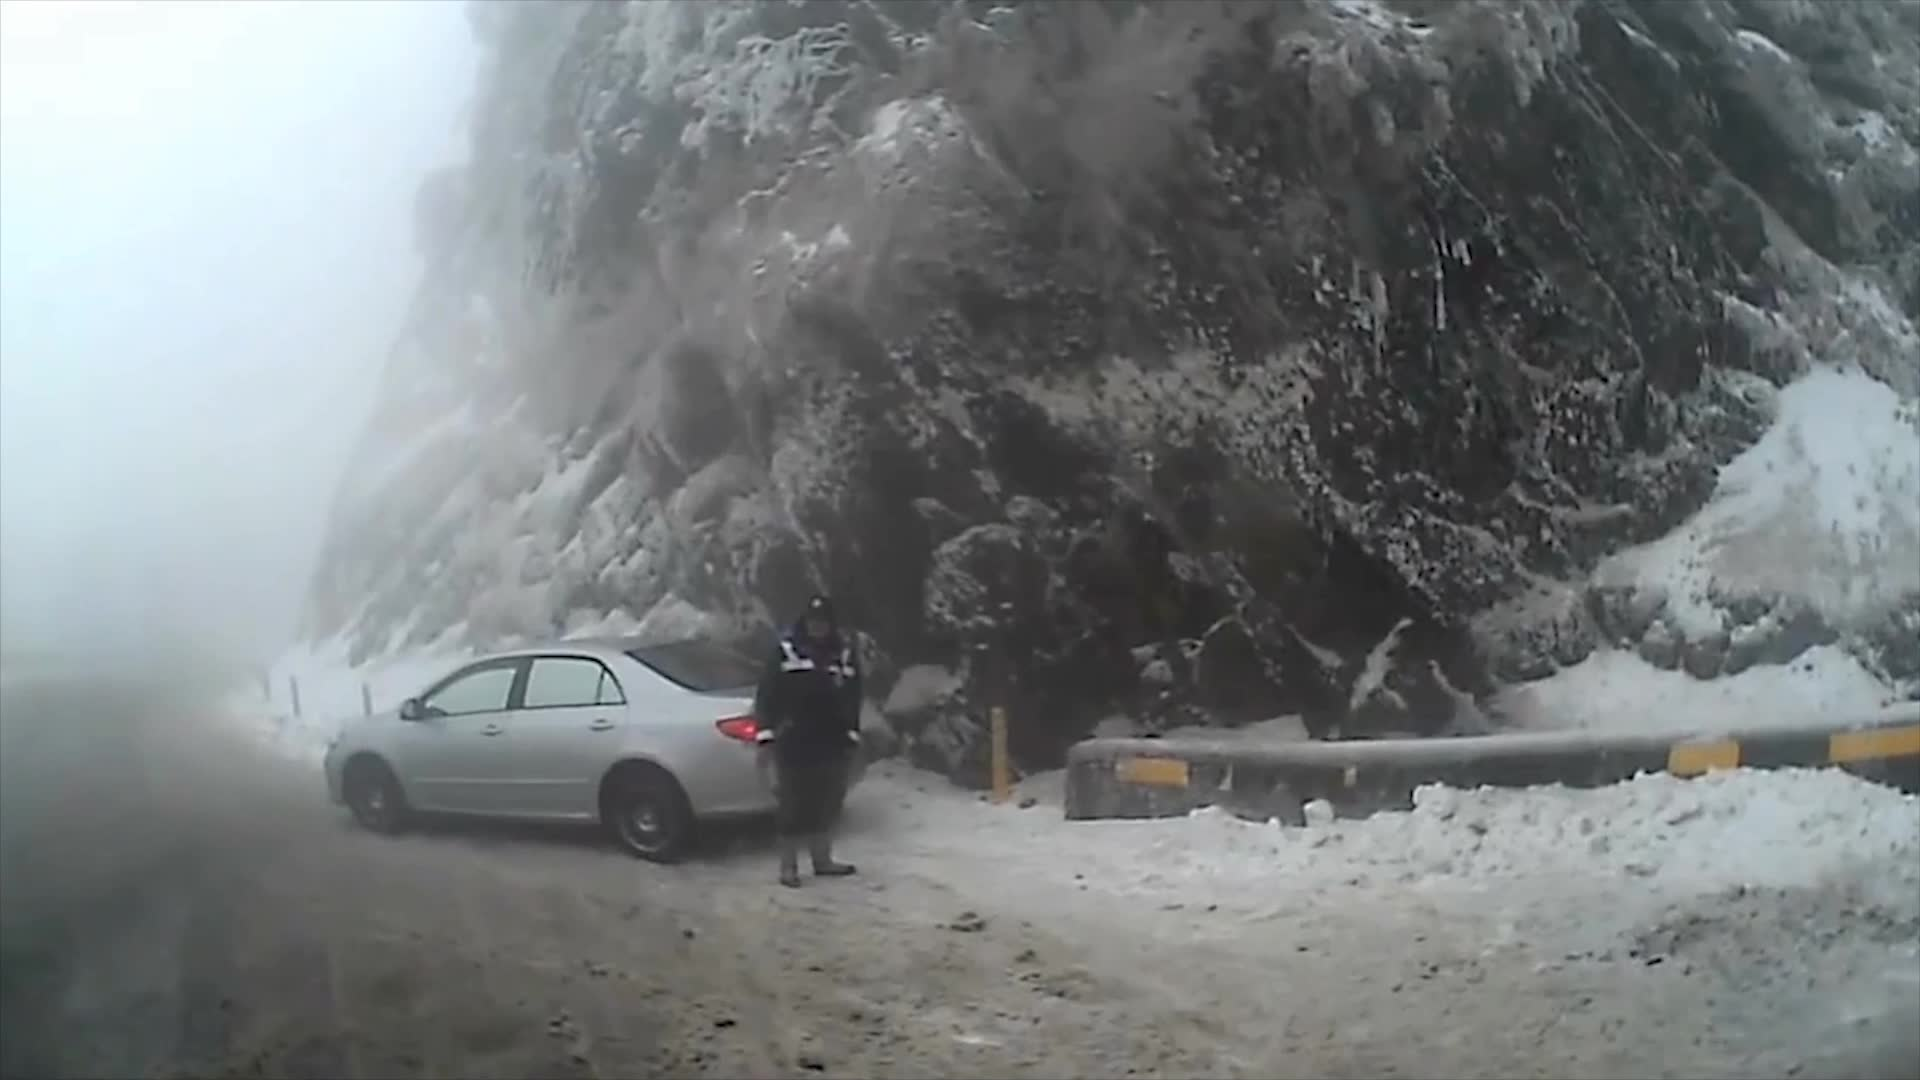pedestrian: (763, 589, 873, 887)
vehicle: (324, 630, 870, 859)
